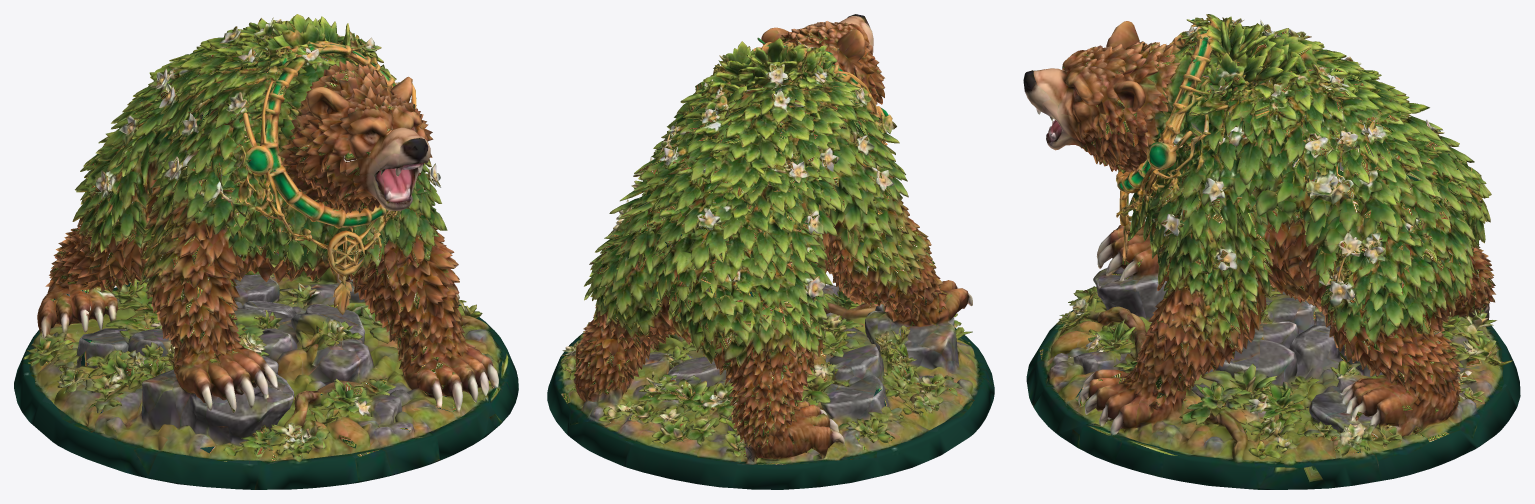
The model's file is ancientBear.glb.
The picture shows the model from 3 angles, left to right: view 1: azimuth 30°, elevation 25°; view 2: azimuth 150°, elevation 25°; view 3: azimuth 270°, elevation 25°; orthographic projection. The views are drawn at different scales.
Size of the model in its own units: 1.89 by 1.58 by 1.9.
Materials: 1 (1 with a texture image).
